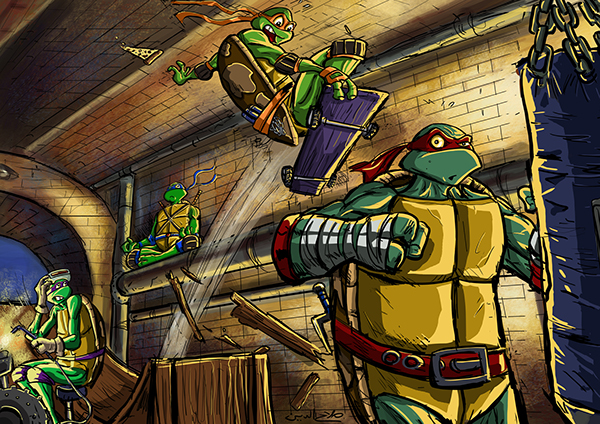bird: (174, 6, 460, 162)
